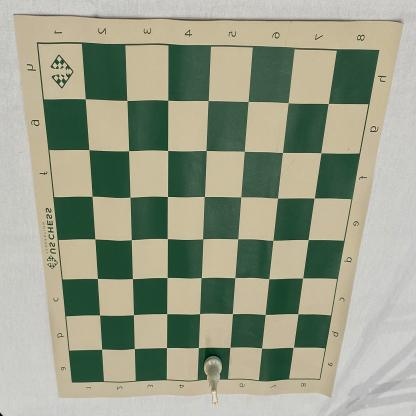white-knight: (204, 355, 223, 409)
